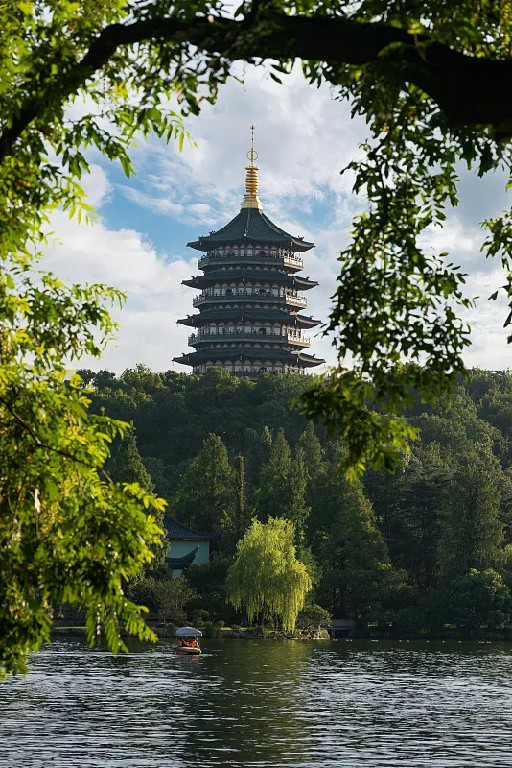Leifeng: (174, 124, 326, 380)
